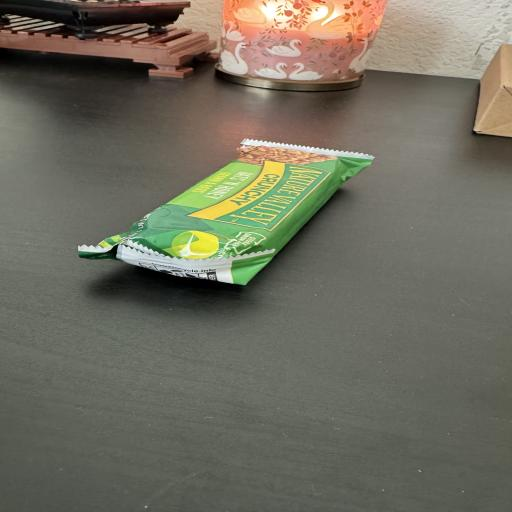granola: (79, 140, 373, 284)
